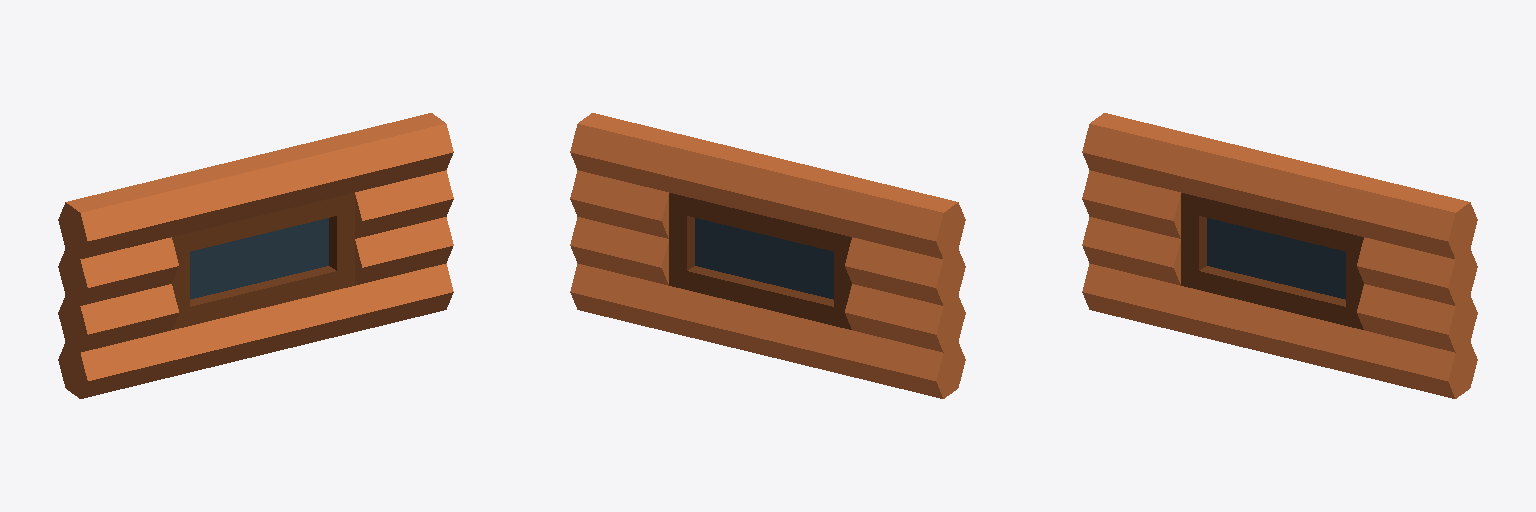
File: cabinWindowHalf.obj
3 views of the same model, side by side, from view 1: azimuth 30°, elevation 25°; view 2: azimuth 150°, elevation 25°; view 3: azimuth 330°, elevation 25° (orthographic).
Visible parts, largest first — view 1: cabinWindowHalf; view 2: cabinWindowHalf; view 3: cabinWindowHalf.
Part boxes in pixels (x1,y1,x2,y2): cabinWindowHalf: (58,113,453,398); cabinWindowHalf: (570,113,965,398); cabinWindowHalf: (1082,113,1477,398).
Bounding box in the file's own units: 1 × 0.4864 × 0.1404.